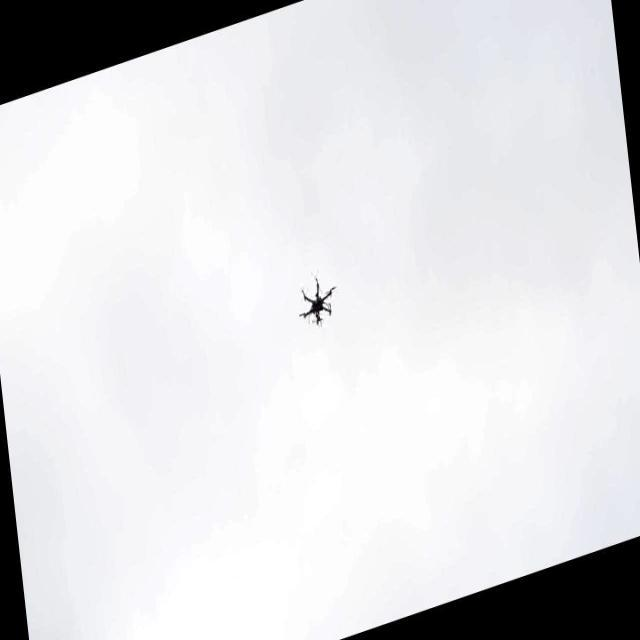drone: (295, 268, 342, 336)
